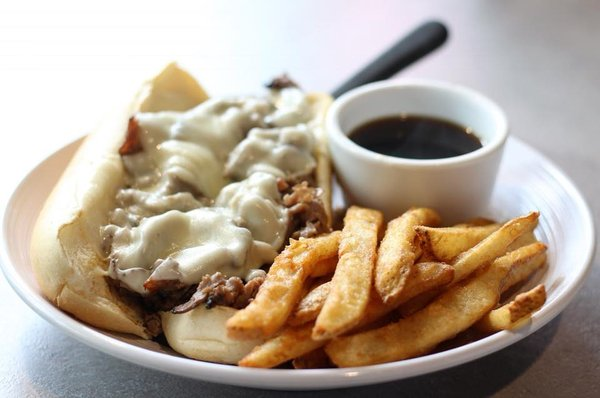pizza: (326, 79, 512, 225)
